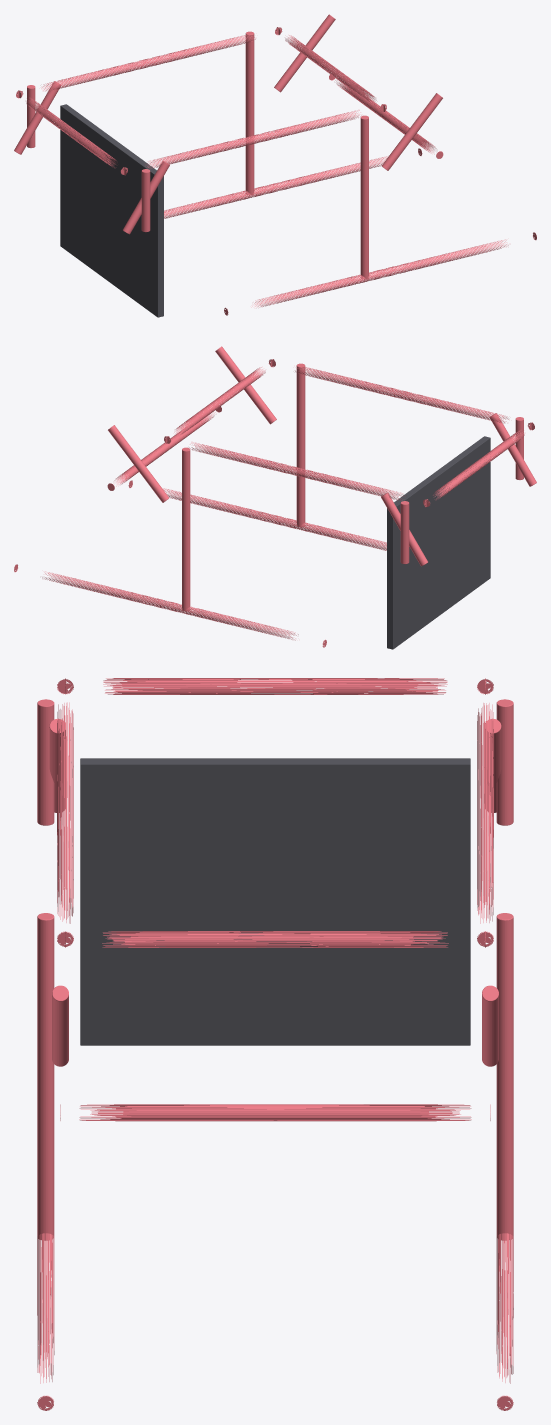
The model's file is body-framework.glb.
3 renders of one model, top to bottom at view 1: azimuth 30°, elevation 25°; view 2: azimuth 150°, elevation 25°; view 3: azimuth 270°, elevation 25°, orthographic. The views are drawn at different scales.
Visible parts, largest first — view 1: Tailgate_Aperture_Frame, Body_Sill_R, Body_Sill_L, Roof_Rail_L, Roof_Rail_R, B_Pillar_L, B_Pillar_R, Roof_Header_Rear, Roof_Header_Front, Cowl_Bar_Front, A_Pillar_R, A_Pillar_L (+4 smaller); view 2: Tailgate_Aperture_Frame, Body_Sill_L, Body_Sill_R, Roof_Rail_R, Roof_Rail_L, B_Pillar_R, B_Pillar_L, Roof_Header_Front, Roof_Header_Rear, Cowl_Bar_Front, A_Pillar_L, A_Pillar_R (+4 smaller); view 3: Tailgate_Aperture_Frame, Cowl_Bar_Front, Roof_Header_Rear, Roof_Header_Front, B_Pillar_L, B_Pillar_R, Roof_Rail_R, Roof_Rail_L, Body_Sill_R, Body_Sill_L, D_Pillar_L, D_Pillar_R (+4 smaller).
Boxes of the visible parts, bbox=[...] form: Tailgate_Aperture_Frame: bbox=[60, 104, 163, 317]; Body_Sill_R: bbox=[224, 232, 536, 315]; Body_Sill_L: bbox=[164, 148, 422, 218]; Roof_Rail_L: bbox=[17, 27, 280, 98]; Roof_Rail_R: bbox=[123, 104, 385, 175]; B_Pillar_L: bbox=[245, 31, 254, 195]; B_Pillar_R: bbox=[360, 115, 368, 279]; Roof_Header_Rear: bbox=[16, 90, 127, 174]; Roof_Header_Front: bbox=[275, 27, 386, 111]; Cowl_Bar_Front: bbox=[329, 73, 443, 158]; A_Pillar_R: bbox=[382, 93, 442, 170]; A_Pillar_L: bbox=[274, 14, 335, 92]; Tailgate_Aperture_Frame: bbox=[387, 436, 490, 649]; Body_Sill_L: bbox=[14, 564, 326, 647]; Body_Sill_R: bbox=[128, 480, 386, 550]; Roof_Rail_R: bbox=[270, 359, 533, 430]; Roof_Rail_L: bbox=[165, 436, 428, 507]; B_Pillar_R: bbox=[296, 363, 305, 527]; B_Pillar_L: bbox=[182, 447, 190, 611]; Roof_Header_Front: bbox=[164, 359, 275, 443]; Roof_Header_Rear: bbox=[423, 422, 534, 506]; Cowl_Bar_Front: bbox=[107, 406, 221, 490]; A_Pillar_L: bbox=[108, 425, 168, 502]; A_Pillar_R: bbox=[215, 346, 276, 424]; Tailgate_Aperture_Frame: bbox=[80, 758, 470, 1045]; Cowl_Bar_Front: bbox=[60, 1104, 490, 1121]; Roof_Header_Rear: bbox=[65, 678, 485, 694]; Roof_Header_Front: bbox=[65, 931, 485, 947]; B_Pillar_L: bbox=[496, 913, 513, 1240]; B_Pillar_R: bbox=[37, 913, 54, 1240]; Roof_Rail_R: bbox=[57, 679, 73, 946]; Roof_Rail_L: bbox=[477, 679, 493, 946]; Body_Sill_R: bbox=[37, 1233, 54, 1410]; Body_Sill_L: bbox=[496, 1233, 513, 1410]; D_Pillar_L: bbox=[496, 699, 513, 825]; D_Pillar_R: bbox=[37, 699, 54, 825].
Size of the model in its own units: 3.87 by 1.52 by 1.95.
